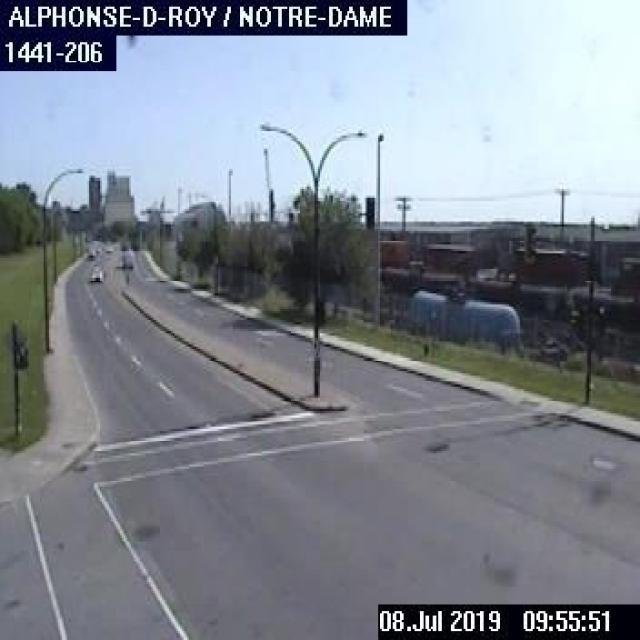vehicle: (85, 265, 106, 282), (82, 245, 100, 261)
